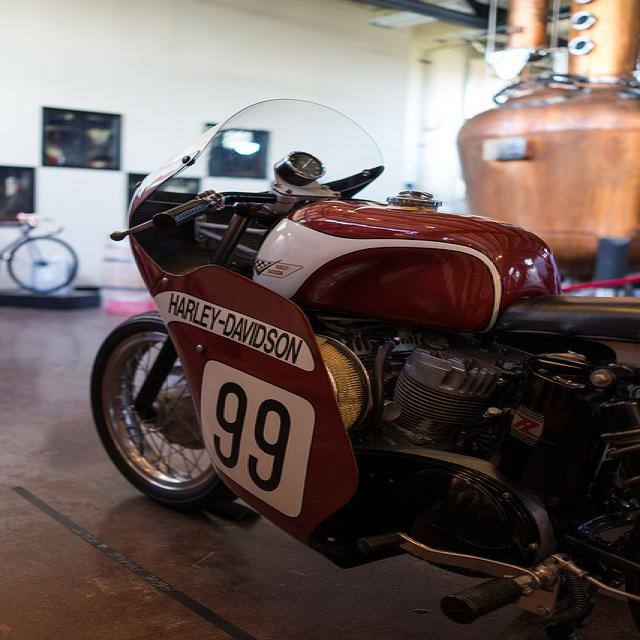motor: (84, 97, 640, 620)
